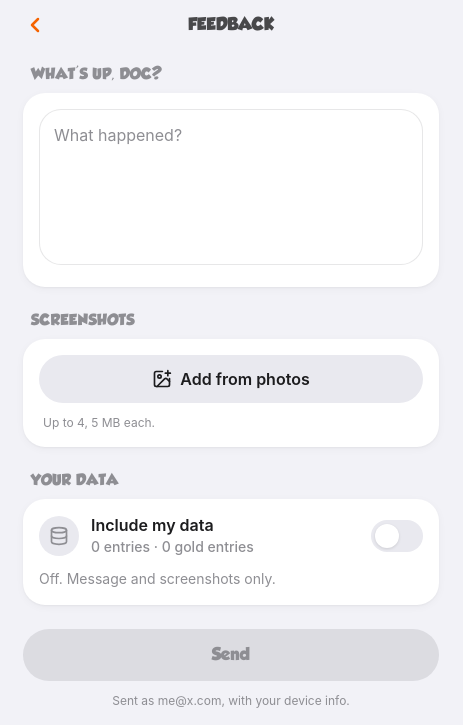
Test case: Feedback: the form › sends the message and shows the thank-you
Expected: the button "Send" is shown, [23, 629, 439, 681]
Type "the keypad eats zeros" into the text box named "Your feedback" at (231, 187), box [39, 109, 423, 265]
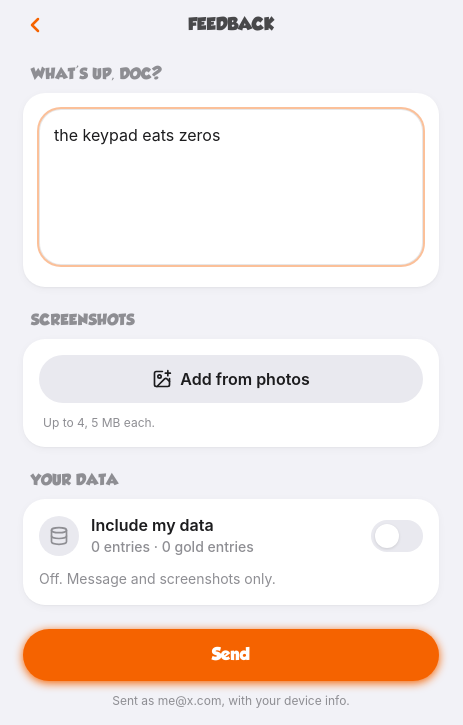
Click the button "Send" at (231, 655), box [23, 629, 439, 681]
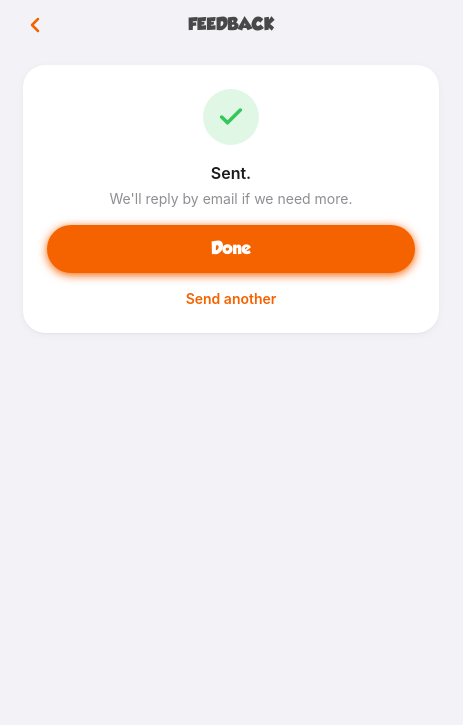
Expected: the text "Sent." is shown, [211, 163, 251, 183]
